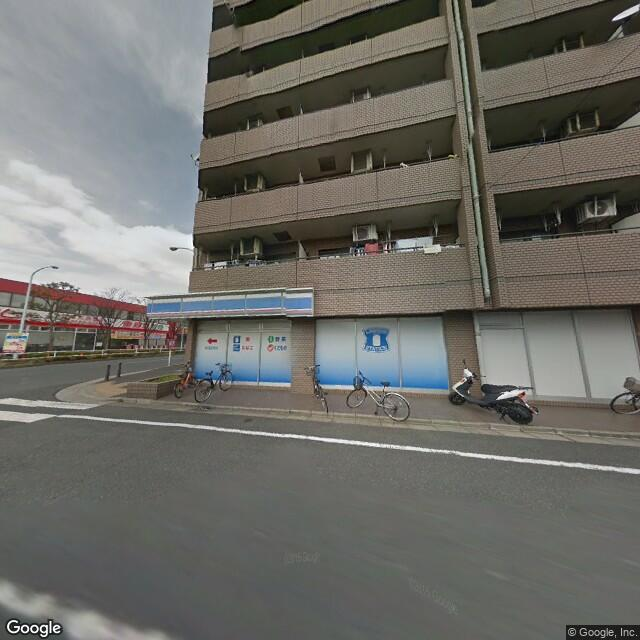lawson: (142, 283, 325, 322), (359, 320, 398, 357)
